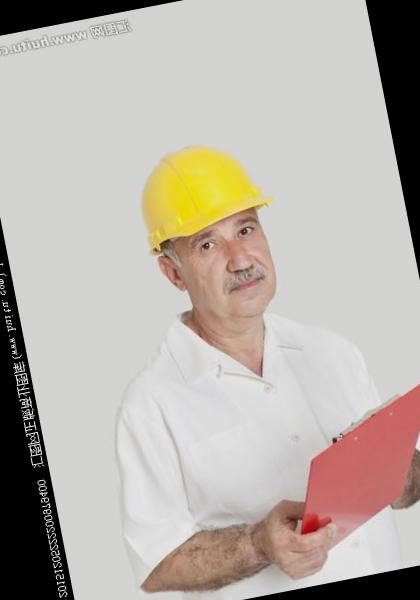helmet: (118, 130, 280, 260)
no_vest: (97, 307, 420, 600)
person: (52, 114, 420, 600)
